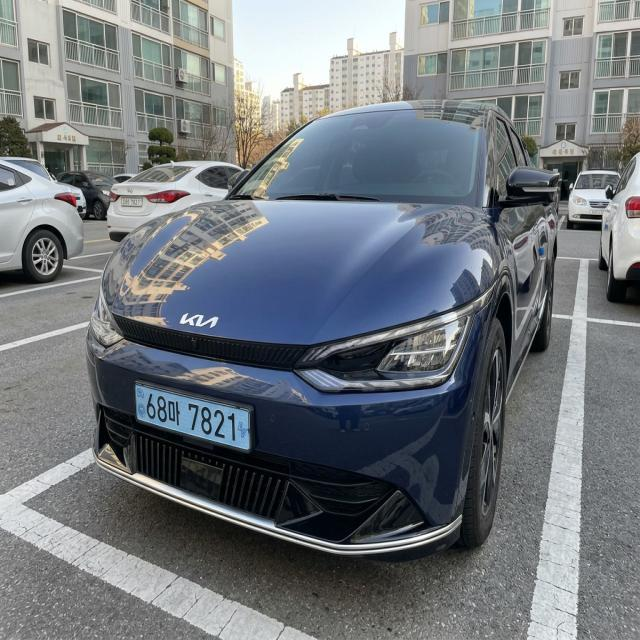car: (117, 367, 279, 463)
carev: (235, 403, 251, 451), (133, 383, 147, 425)
